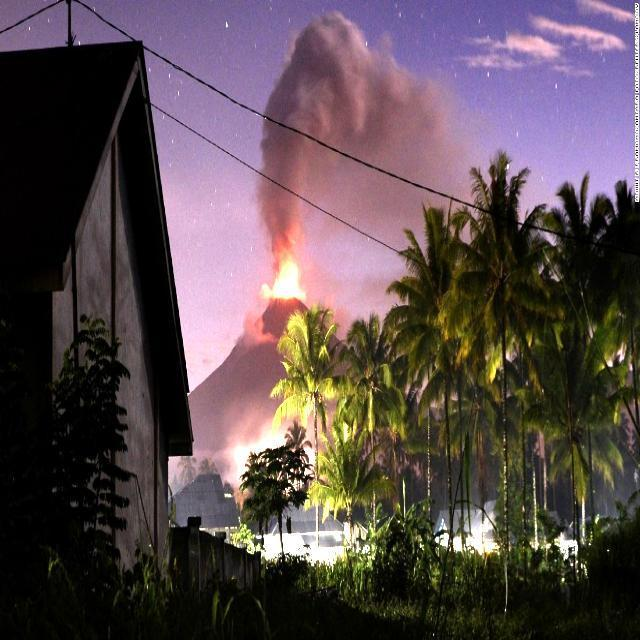Fire: (266, 240, 313, 306)
Smoke: (254, 2, 468, 248)
